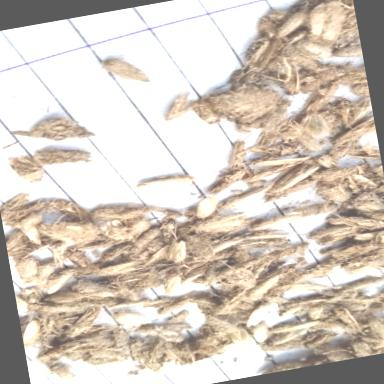pbw: (240, 262, 304, 304), (212, 178, 284, 213), (252, 174, 322, 209), (234, 98, 298, 136), (260, 160, 324, 197), (260, 54, 305, 104), (307, 0, 358, 44), (38, 192, 91, 232), (102, 52, 154, 92), (325, 203, 384, 238), (286, 39, 336, 80), (297, 62, 356, 96), (174, 222, 218, 266), (58, 304, 108, 342), (310, 176, 356, 217), (70, 272, 121, 306), (246, 12, 292, 49), (240, 159, 308, 184), (224, 131, 264, 173), (272, 0, 315, 39), (26, 296, 90, 322), (204, 165, 254, 198), (162, 88, 210, 122), (252, 116, 300, 150), (299, 80, 344, 116), (33, 306, 68, 352), (235, 36, 275, 76), (178, 258, 232, 286), (328, 116, 378, 146), (278, 290, 342, 313), (37, 336, 98, 360), (134, 316, 195, 340), (246, 137, 302, 163), (246, 150, 312, 172), (246, 248, 290, 281), (299, 255, 357, 280), (294, 108, 334, 144), (158, 222, 190, 266), (332, 302, 368, 341), (8, 152, 47, 188), (143, 320, 188, 351), (10, 209, 44, 250), (154, 332, 190, 370), (230, 234, 292, 256), (174, 336, 206, 378), (258, 332, 318, 354), (223, 258, 259, 294), (16, 232, 62, 260), (326, 133, 370, 162), (246, 211, 304, 233), (208, 286, 250, 316), (136, 171, 196, 192), (312, 338, 356, 366), (340, 183, 384, 211), (310, 316, 357, 342), (41, 286, 96, 308), (292, 276, 344, 299), (62, 243, 96, 278), (295, 34, 336, 63), (308, 220, 362, 242), (260, 242, 314, 264), (15, 254, 46, 292), (242, 226, 300, 246), (109, 306, 153, 332), (189, 96, 224, 128), (127, 334, 158, 370), (331, 95, 361, 132), (124, 264, 163, 292), (127, 226, 164, 255), (43, 268, 82, 295), (194, 322, 229, 352), (0, 191, 35, 221), (347, 254, 384, 282), (71, 293, 122, 313), (268, 316, 324, 334), (30, 261, 60, 294), (52, 309, 86, 338), (89, 344, 131, 367), (292, 201, 340, 221), (242, 150, 300, 166), (76, 237, 134, 253), (266, 326, 312, 346), (218, 258, 264, 278), (256, 39, 287, 68), (160, 266, 188, 298), (337, 274, 384, 293), (140, 347, 168, 378), (346, 141, 382, 165), (46, 240, 73, 272), (328, 241, 376, 259), (97, 242, 136, 264), (140, 244, 174, 269), (243, 302, 275, 328), (192, 194, 221, 222), (15, 286, 46, 312), (207, 310, 238, 336), (5, 227, 31, 257), (104, 217, 130, 247), (68, 233, 111, 251), (302, 331, 340, 351), (21, 320, 46, 350), (155, 296, 192, 316), (48, 361, 80, 384), (226, 324, 254, 350), (350, 170, 380, 194), (158, 217, 182, 246), (210, 236, 246, 255), (278, 302, 320, 318), (198, 260, 220, 290), (127, 218, 153, 243), (365, 311, 384, 345), (108, 296, 153, 310), (250, 320, 274, 345), (298, 130, 323, 154), (307, 302, 337, 322), (105, 273, 132, 295), (314, 152, 343, 172), (140, 296, 178, 311), (190, 293, 220, 312), (349, 338, 376, 358), (345, 172, 367, 196), (112, 325, 132, 351), (373, 228, 384, 253), (372, 290, 384, 311)
